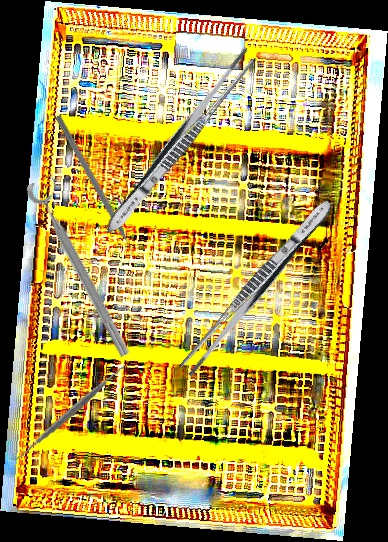Chopper: (47, 114, 140, 265)
Dressing Forceps: (99, 42, 261, 241), (177, 194, 338, 380)
Fixation Ring: (23, 171, 146, 361)
Spatula Surgical: (8, 349, 133, 476)
